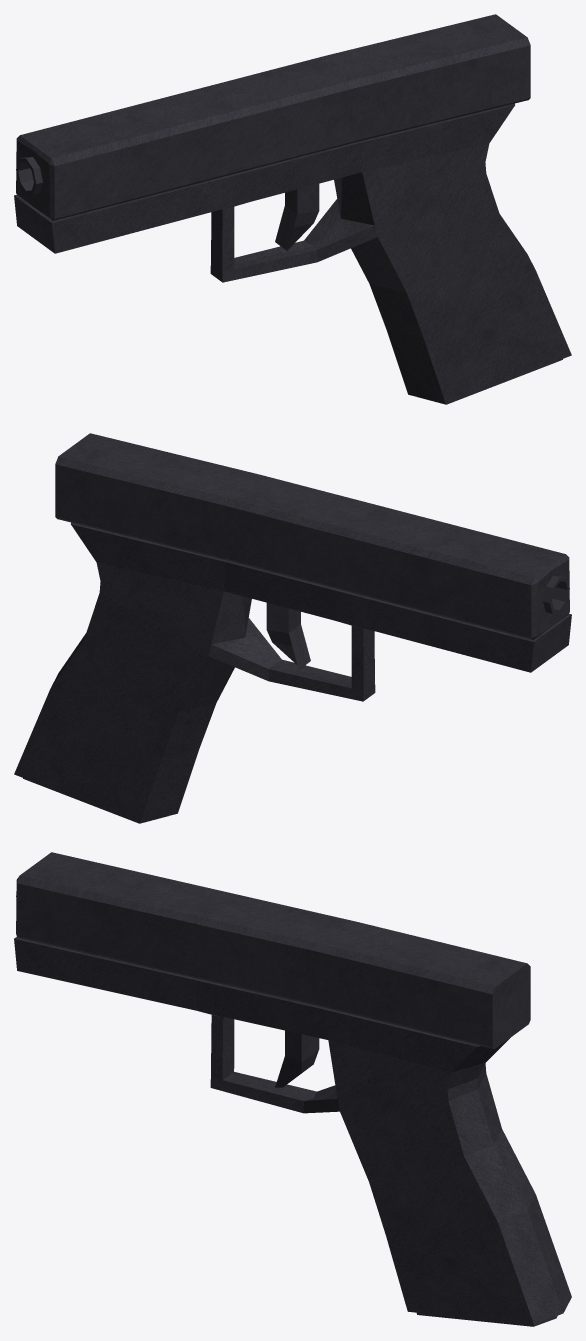
The model's file is Gun.fbx.
3 views of the same model, one above another, from view 1: azimuth 30°, elevation 25°; view 2: azimuth 150°, elevation 25°; view 3: azimuth 330°, elevation 25° (orthographic).
Visible parts, largest first — view 1: Gun; view 2: Gun; view 3: Gun.
Part boxes in pixels (box(x1,y1,x2,y2)): Gun: box(14, 14, 571, 404); Gun: box(14, 433, 571, 823); Gun: box(14, 852, 571, 1326).
Bounding box in the file's own units: 37.17 × 23.04 × 4.54.
Materials: 4 (4 with a texture image).
